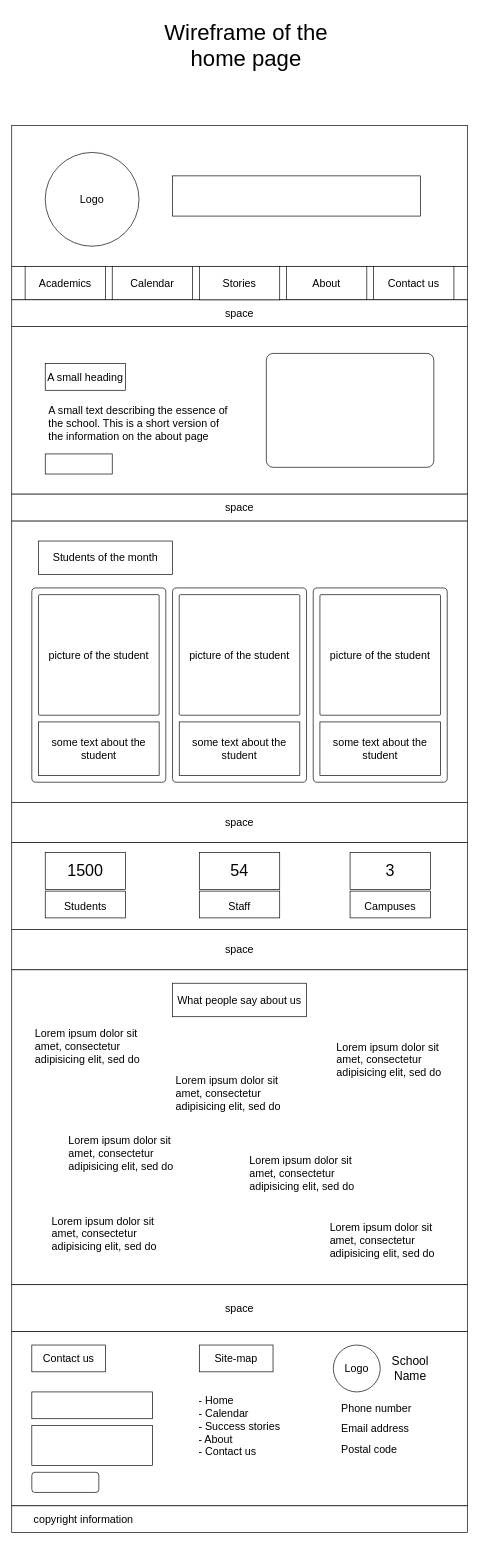
Image size: 479x1544. Some labels were removed from this diagram. Here are the shapes that lost their labels. From the top down, the centre of each, then its label:
the point at 296,195: Moto
the point at 350,410: Image describing the school
the point at 78,463: Read more button
the point at 91,1405: email field
the point at 91,1445: message field
the point at 65,1482: submit
